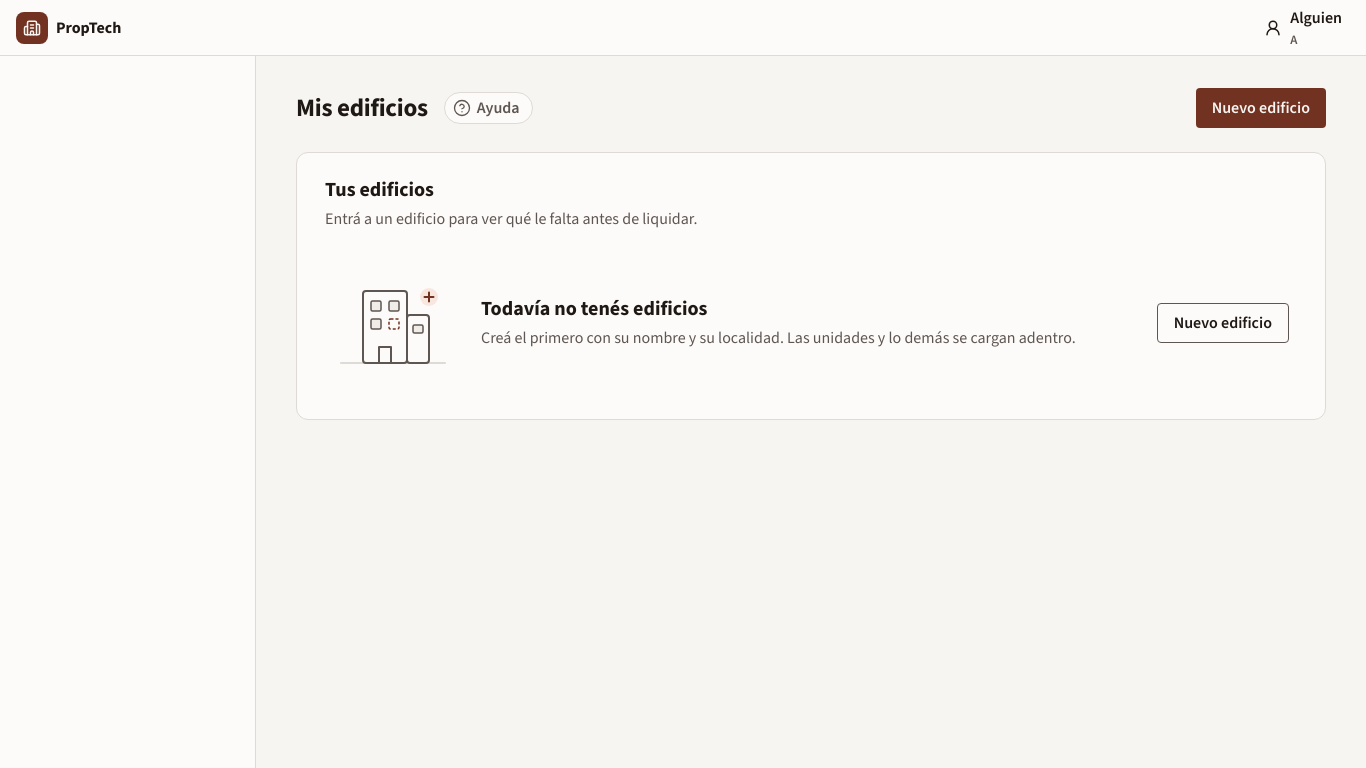
Test: PantallaMisEdificios › "Nuevo edificio" abre el panel con el formulario (nombre, ubicación, pisos y subsuelos)
The image size is (1366, 768).
Step 1. Click the button "Nuevo edificio" in the row of "Mis edificios" → {"x": 1261, "y": 108}, box [1196, 88, 1326, 128]
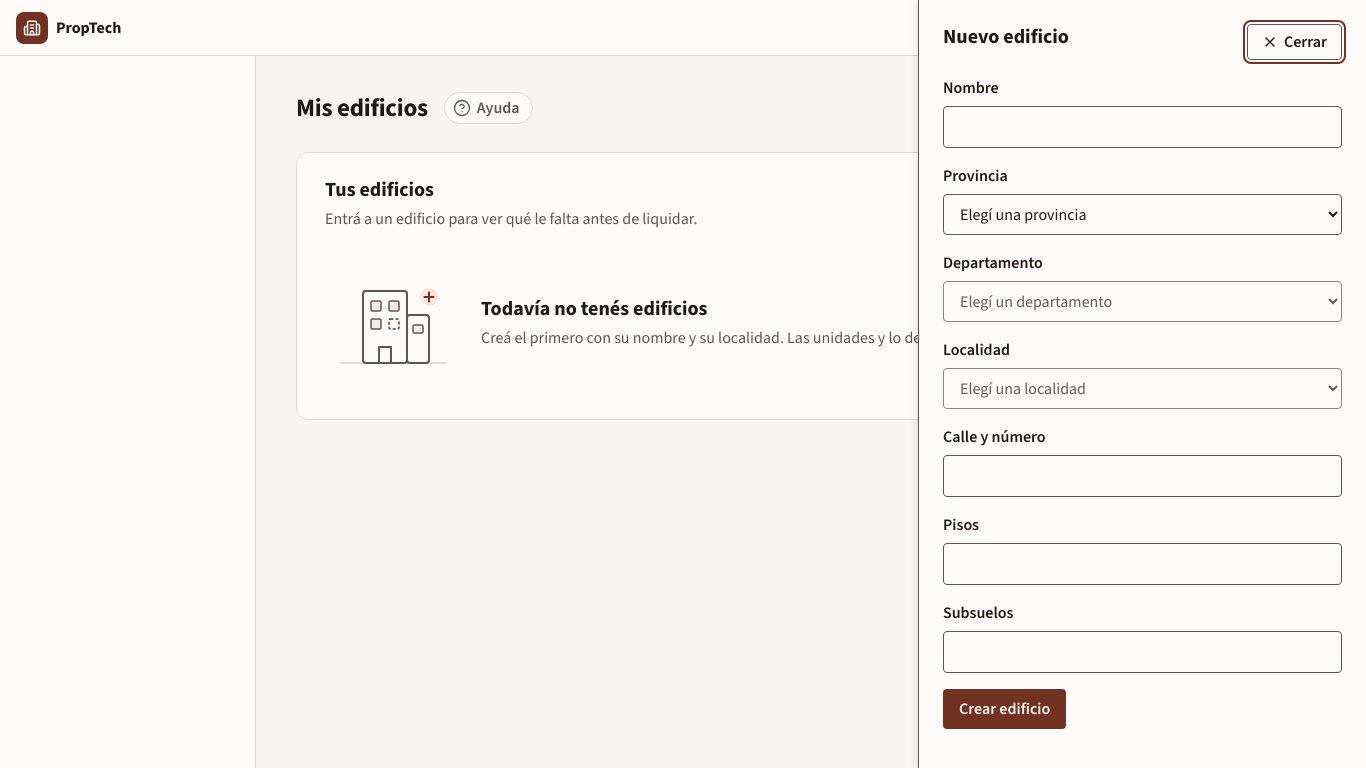
Now the field labelled "Nombre" is shown, box [943, 106, 1342, 148]
Now the dropdown labelled "Provincia" is shown, box [943, 194, 1342, 235]
Now the number field labelled "Pisos" is shown, box [943, 543, 1342, 585]
